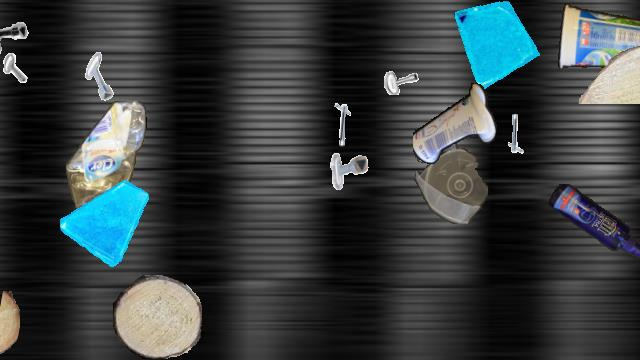glass: (453, 1, 545, 93), (60, 177, 150, 267)
metal: (321, 101, 375, 155), (372, 43, 424, 95), (77, 51, 127, 101), (485, 106, 535, 156), (0, 1, 33, 63), (328, 148, 370, 190), (0, 51, 27, 99)
plastic: (66, 101, 148, 247), (413, 81, 497, 167), (549, 184, 640, 258), (414, 135, 488, 223), (556, 1, 640, 71)
wood: (113, 275, 201, 359), (578, 45, 640, 103), (0, 291, 19, 359)
